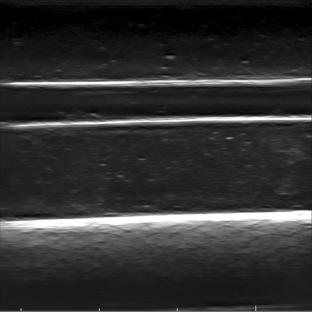vessel: (0, 77, 308, 128)
